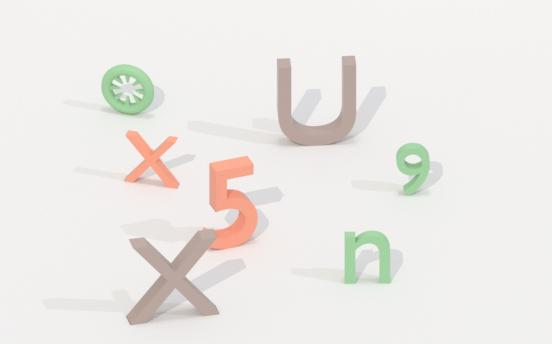5: (204, 153, 260, 253)
9: (394, 139, 433, 198)
n: (342, 227, 393, 288)
tron: (100, 61, 156, 116)
u: (274, 53, 359, 148)
x: (125, 227, 220, 327), (124, 127, 181, 192)
